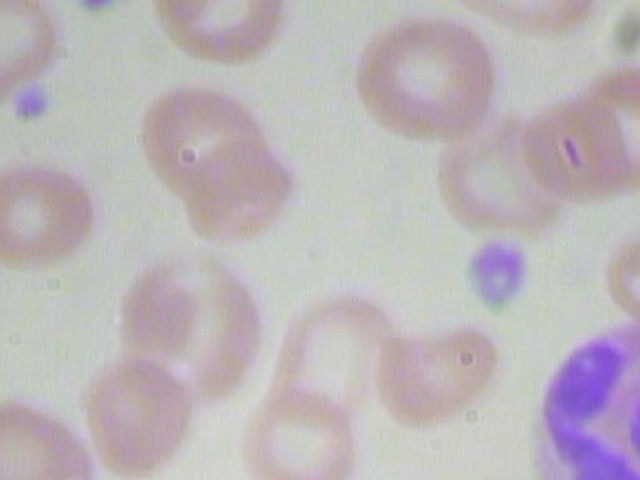Platelets: (449, 232, 539, 328), (7, 81, 67, 140), (64, 0, 132, 20)
RBC: (123, 245, 272, 403), (342, 10, 500, 154), (60, 346, 205, 477), (135, 77, 277, 199), (368, 312, 502, 430), (0, 152, 102, 278), (238, 382, 364, 480), (180, 131, 297, 234), (522, 93, 630, 202), (138, 0, 306, 68), (575, 57, 640, 197), (0, 389, 98, 480), (417, 0, 611, 35), (0, 0, 62, 109), (591, 220, 640, 326)
WBC: (525, 309, 640, 480)
